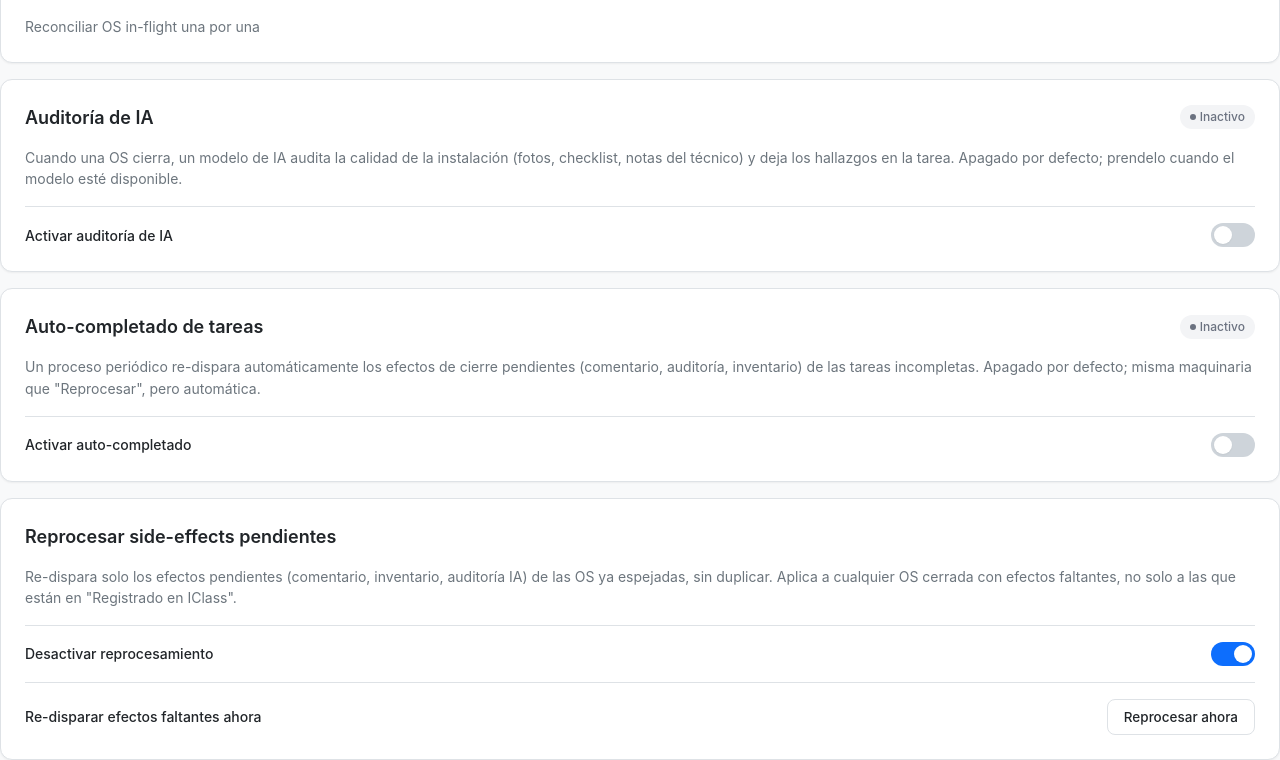
Test: IClassClosureFlagBody › shows "en curso" banner when reprocess returns queued:false reason already-running
This screenshot has width=1280, height=760.
(page scrolled)
Click the button "Reprocesar ahora". click: [1181, 717]
box: [1107,699,1255,735]
(page scrolled)
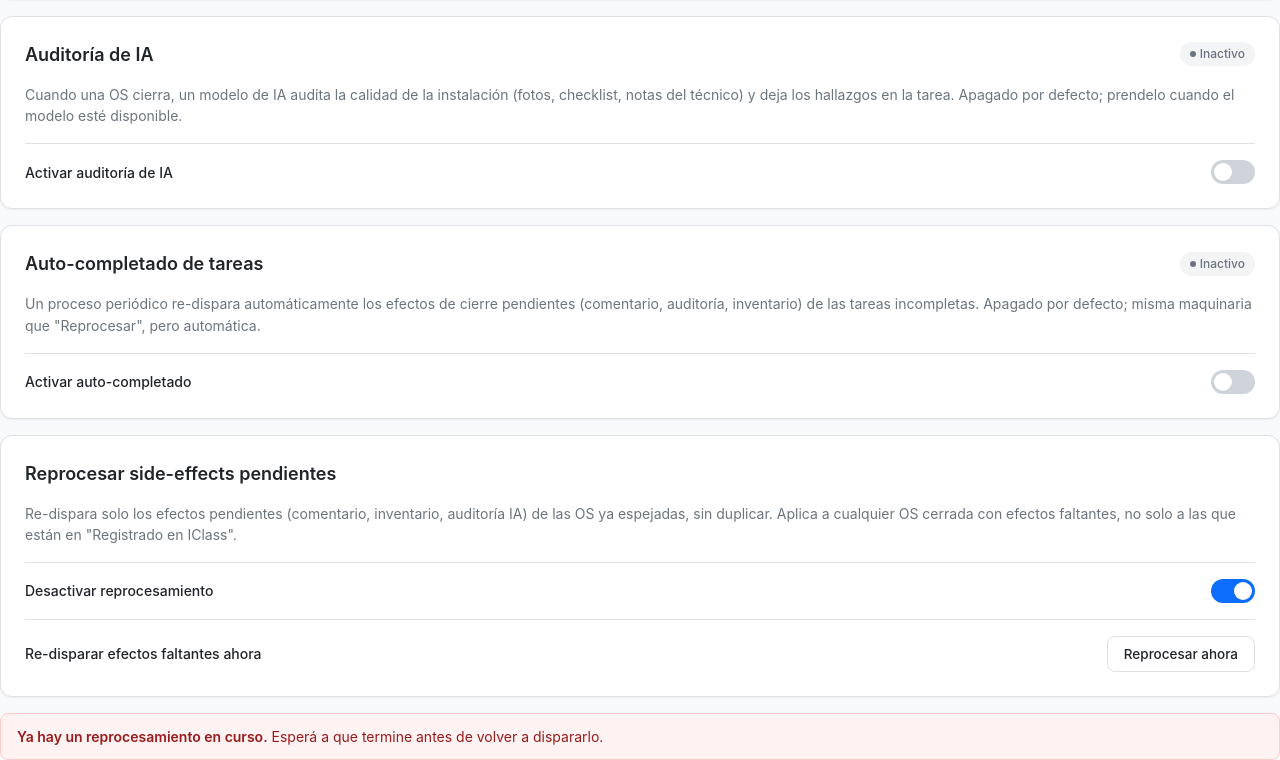
Check: the text "Ya hay un reprocesamiento en curso." is shown, box [17,728,268,745]
